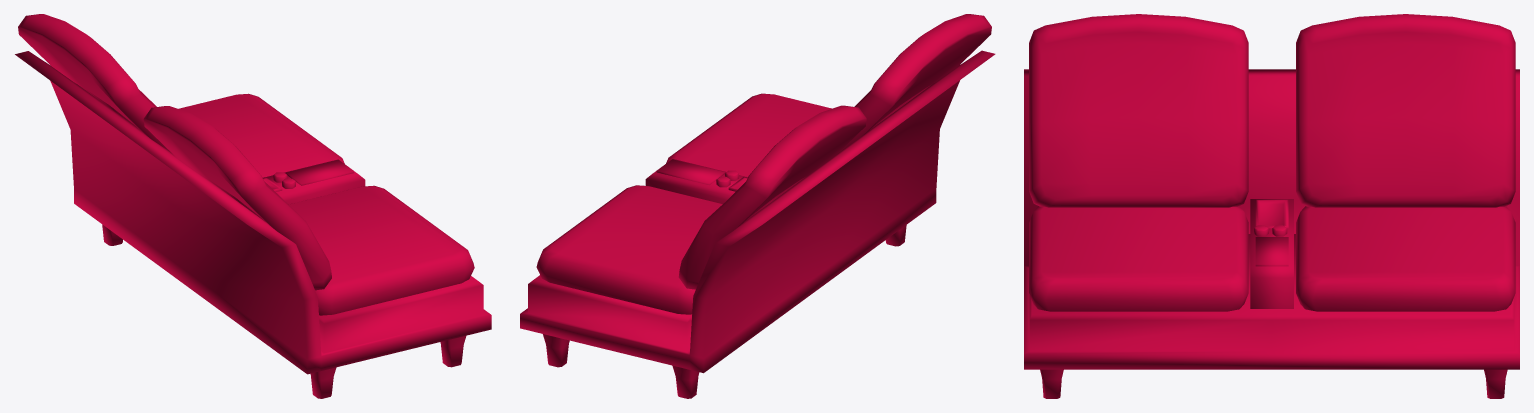
Rendered from Sofa.fbx.
The picture shows the model from 3 angles, left to right: view 1: azimuth 30°, elevation 25°; view 2: azimuth 150°, elevation 25°; view 3: azimuth 270°, elevation 25°; orthographic projection. The views are drawn at different scales.
Visible parts, largest first — view 1: Sofa; view 2: Sofa; view 3: Sofa.
Part boxes in pixels (bbox=[...]): Sofa: bbox=[15, 14, 491, 398]; Sofa: bbox=[520, 14, 995, 398]; Sofa: bbox=[1024, 14, 1519, 398].
Bounding box in the file's own units: 3.05 × 3.01 × 4.97.
